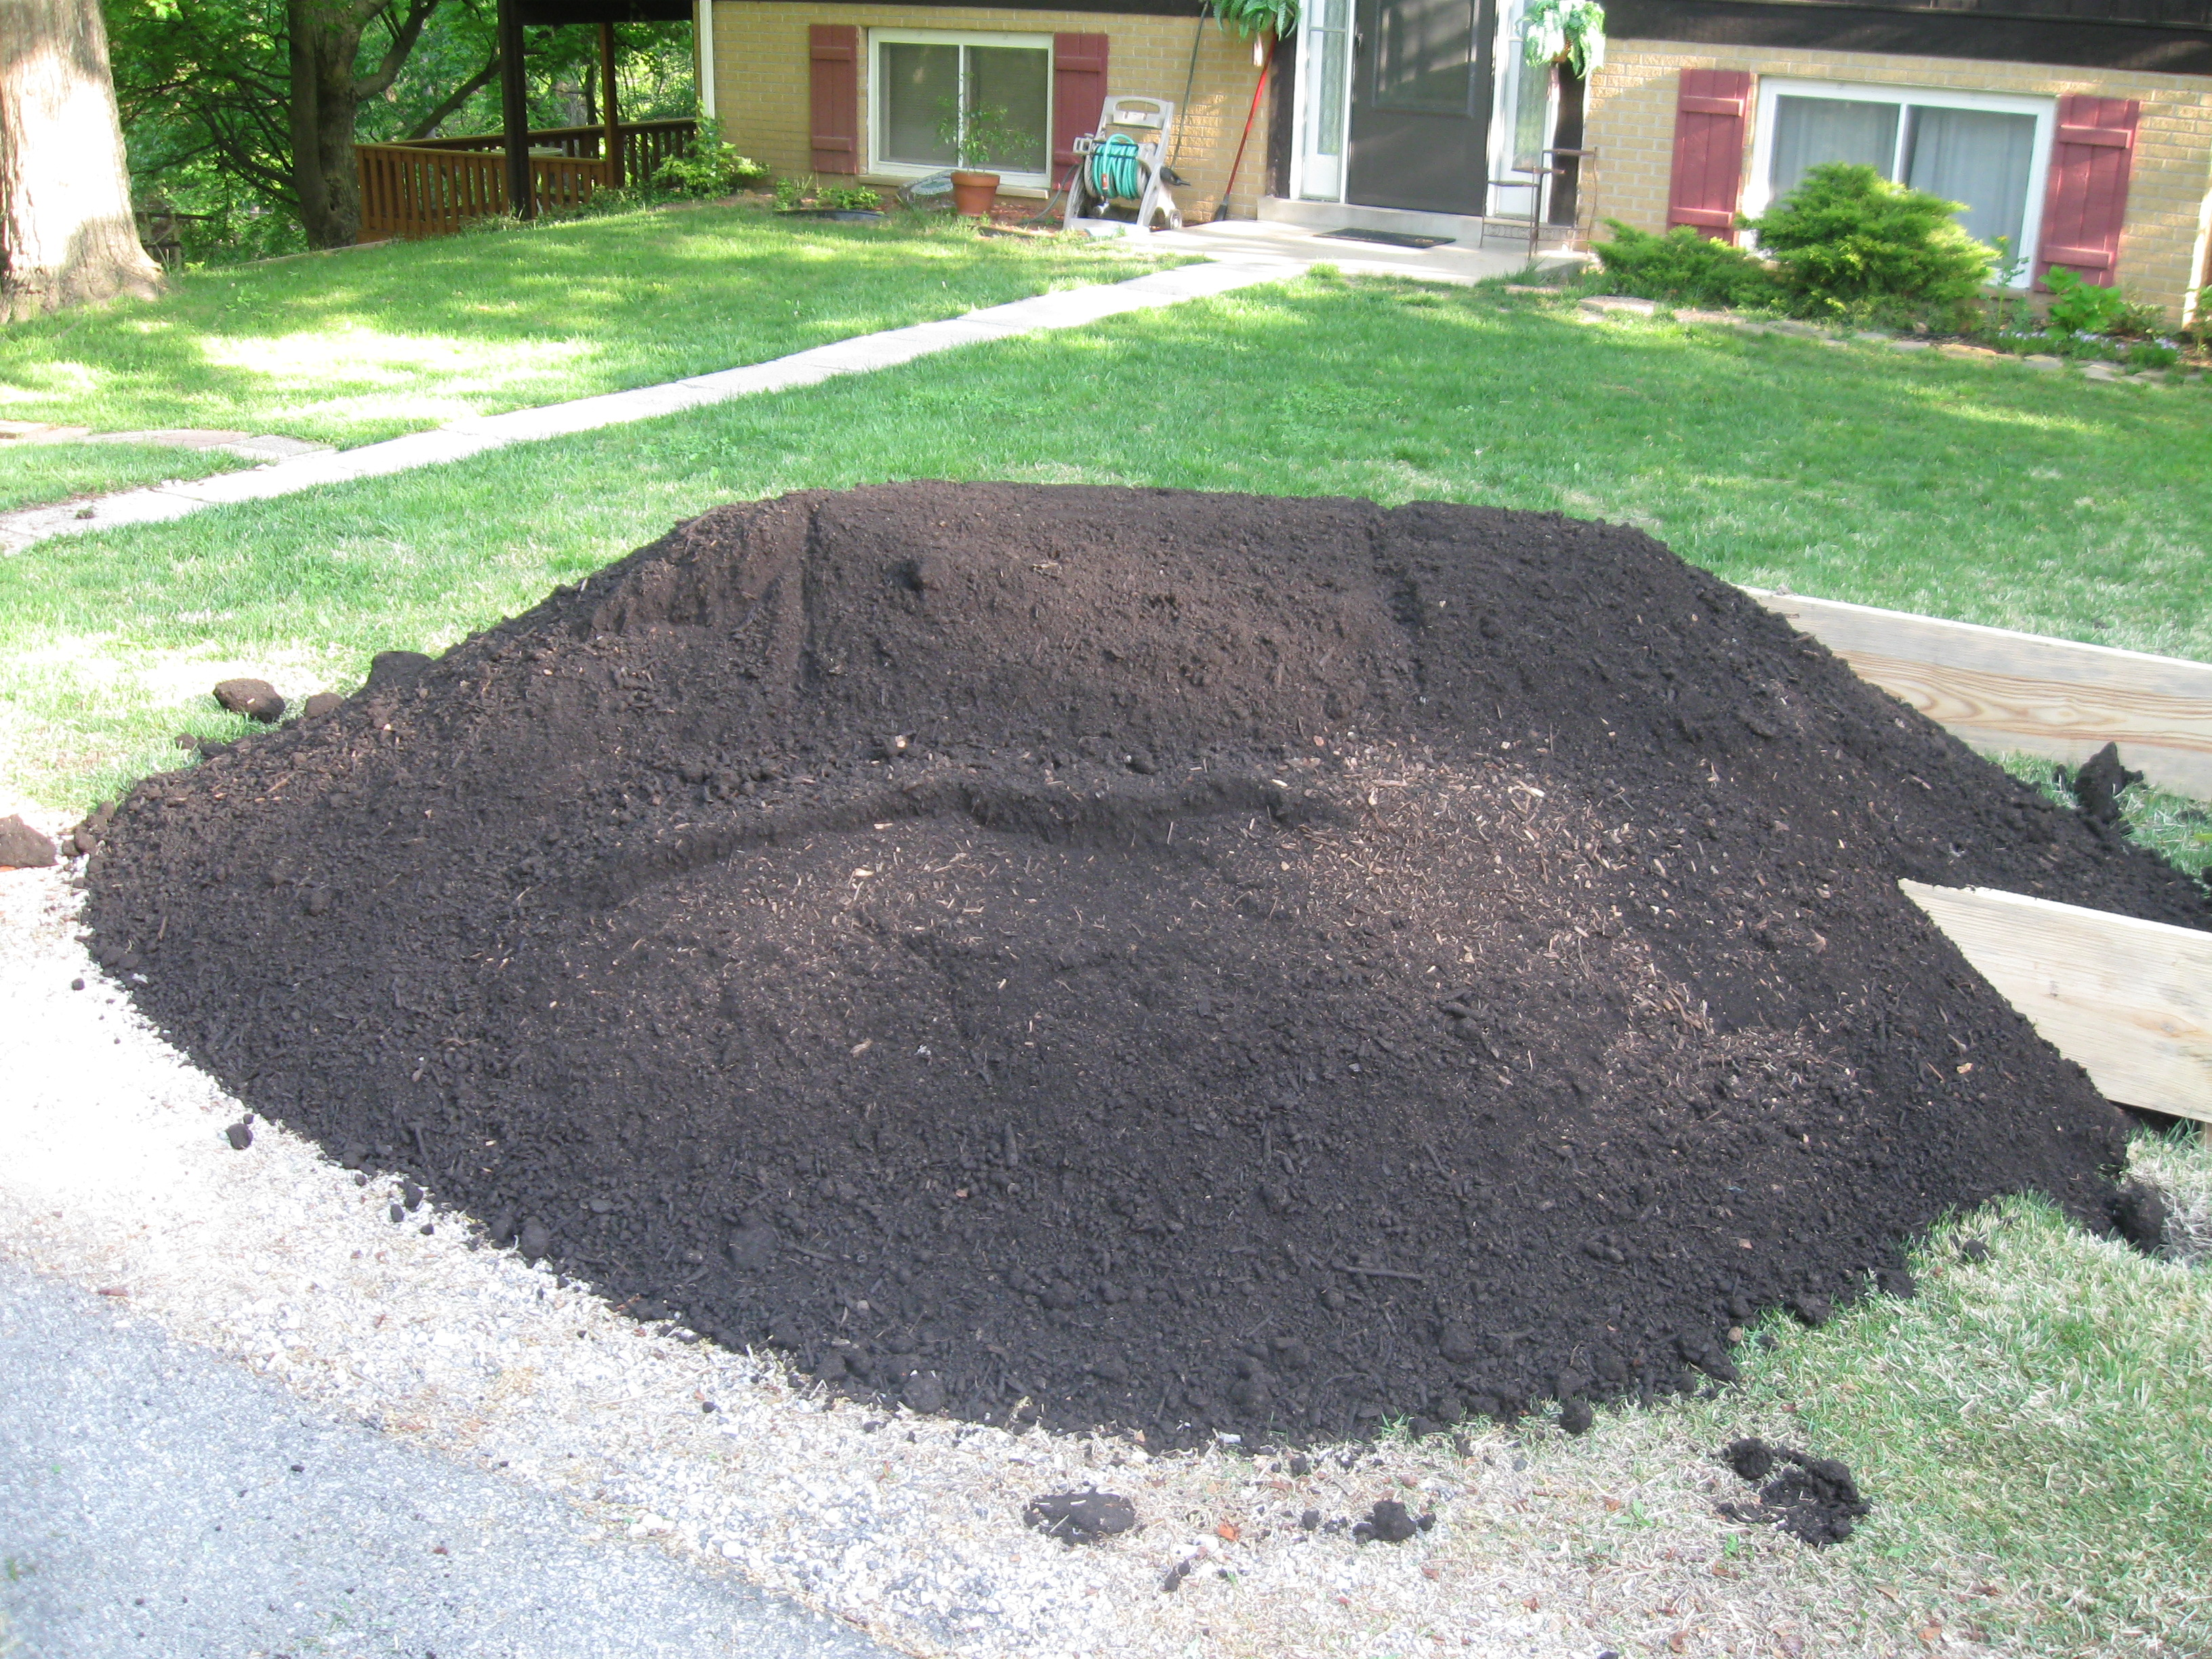dirt: (89, 481, 2181, 1415)
grass: (1717, 301, 2203, 645), (3, 490, 388, 791), (1252, 268, 1709, 509), (10, 263, 404, 509), (404, 403, 799, 645), (819, 324, 1240, 471), (415, 237, 751, 410), (758, 211, 1109, 347)
tree: (7, 17, 155, 338)
